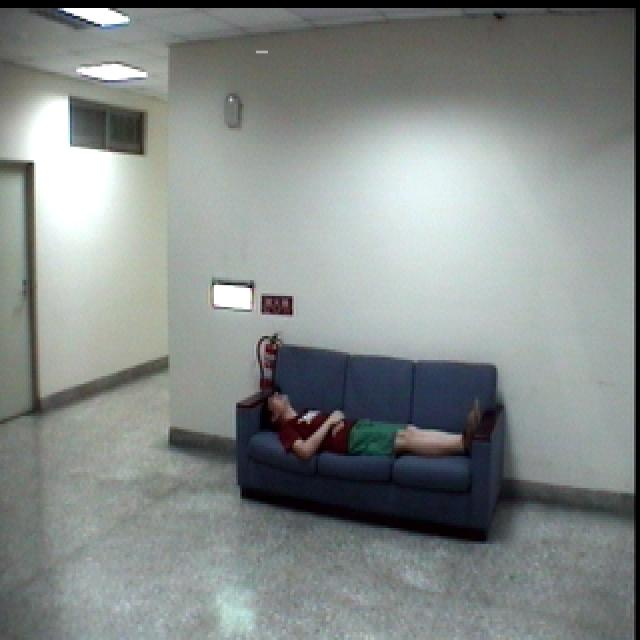lie: (255, 374, 489, 475)
